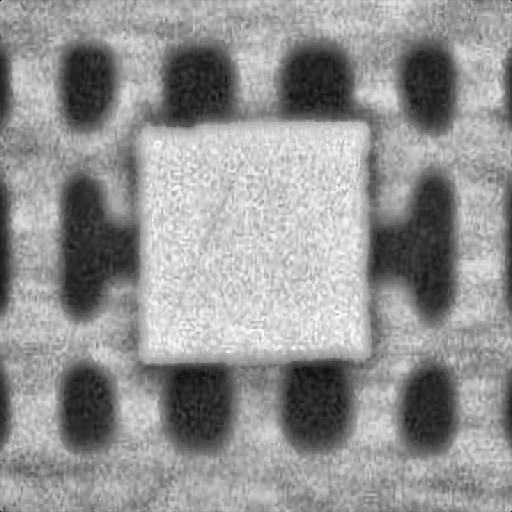DIE_CRACK: (252, 98, 366, 212)
